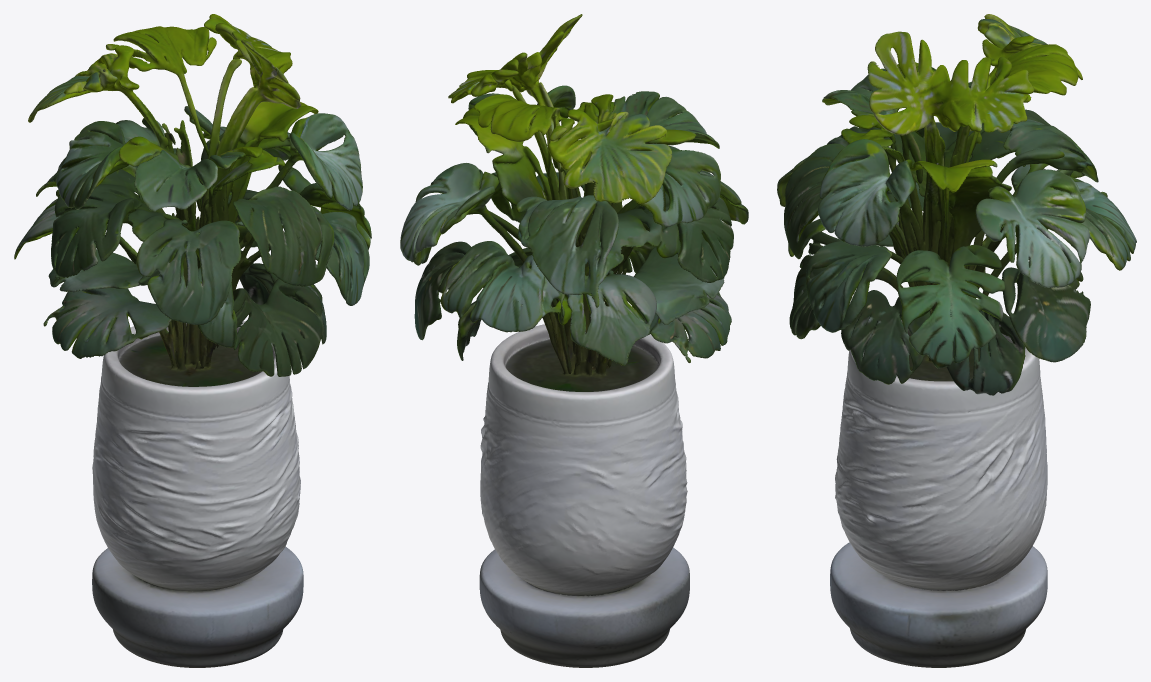
The model's file is 123_Original_08.glb.
The picture shows the model from 3 angles, left to right: view 1: azimuth 30°, elevation 25°; view 2: azimuth 150°, elevation 25°; view 3: azimuth 270°, elevation 25°; orthographic projection. The views are drawn at different scales.
Parts seen in each view (by area): view 1: tripo_node_06b834ea-8b63-4fc9-b4b9-7fbeef1e0908; view 2: tripo_node_06b834ea-8b63-4fc9-b4b9-7fbeef1e0908; view 3: tripo_node_06b834ea-8b63-4fc9-b4b9-7fbeef1e0908.
Part boxes in pixels (<box>): tripo_node_06b834ea-8b63-4fc9-b4b9-7fbeef1e0908: <box>14,14,371,667</box>; tripo_node_06b834ea-8b63-4fc9-b4b9-7fbeef1e0908: <box>400,14,748,667</box>; tripo_node_06b834ea-8b63-4fc9-b4b9-7fbeef1e0908: <box>777,14,1136,667</box>.
Bounding box in the file's own units: 0.5248 × 1 × 0.528.
1 material, 1 textured.
